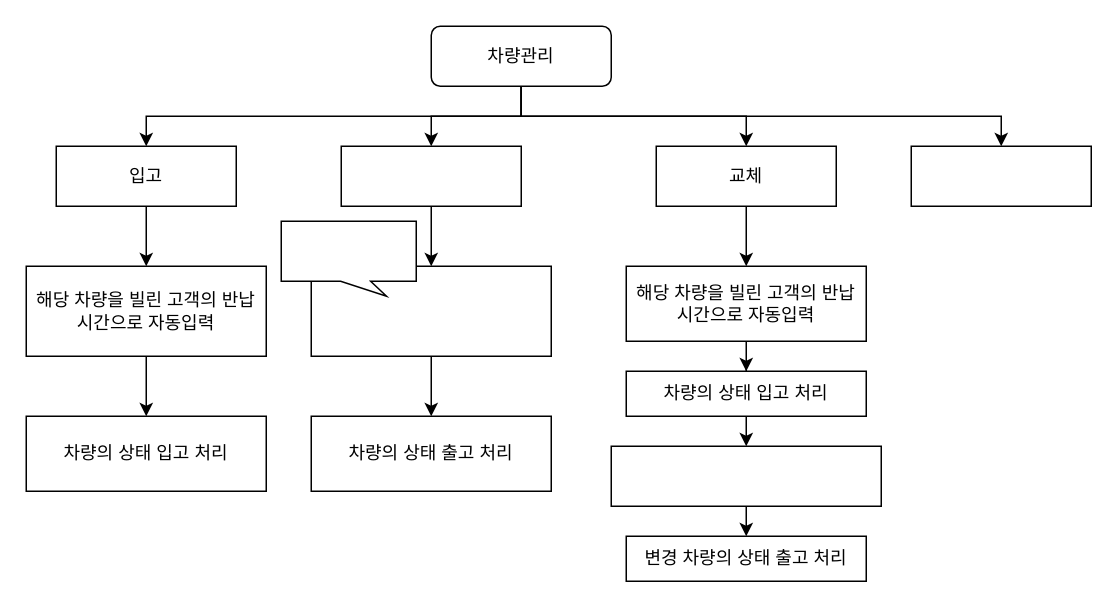
This 1118x608 diagram has some shape labels left out. Each missing label, with the box of its shape:
계약 진행: (310, 265, 551, 356)
기존 계약서에 차량 번호 및 출고 시간변경: (610, 445, 881, 506)
사고: (910, 145, 1091, 206)
출고: (340, 145, 521, 206)
프로세스_1: (280, 220, 416, 296)
